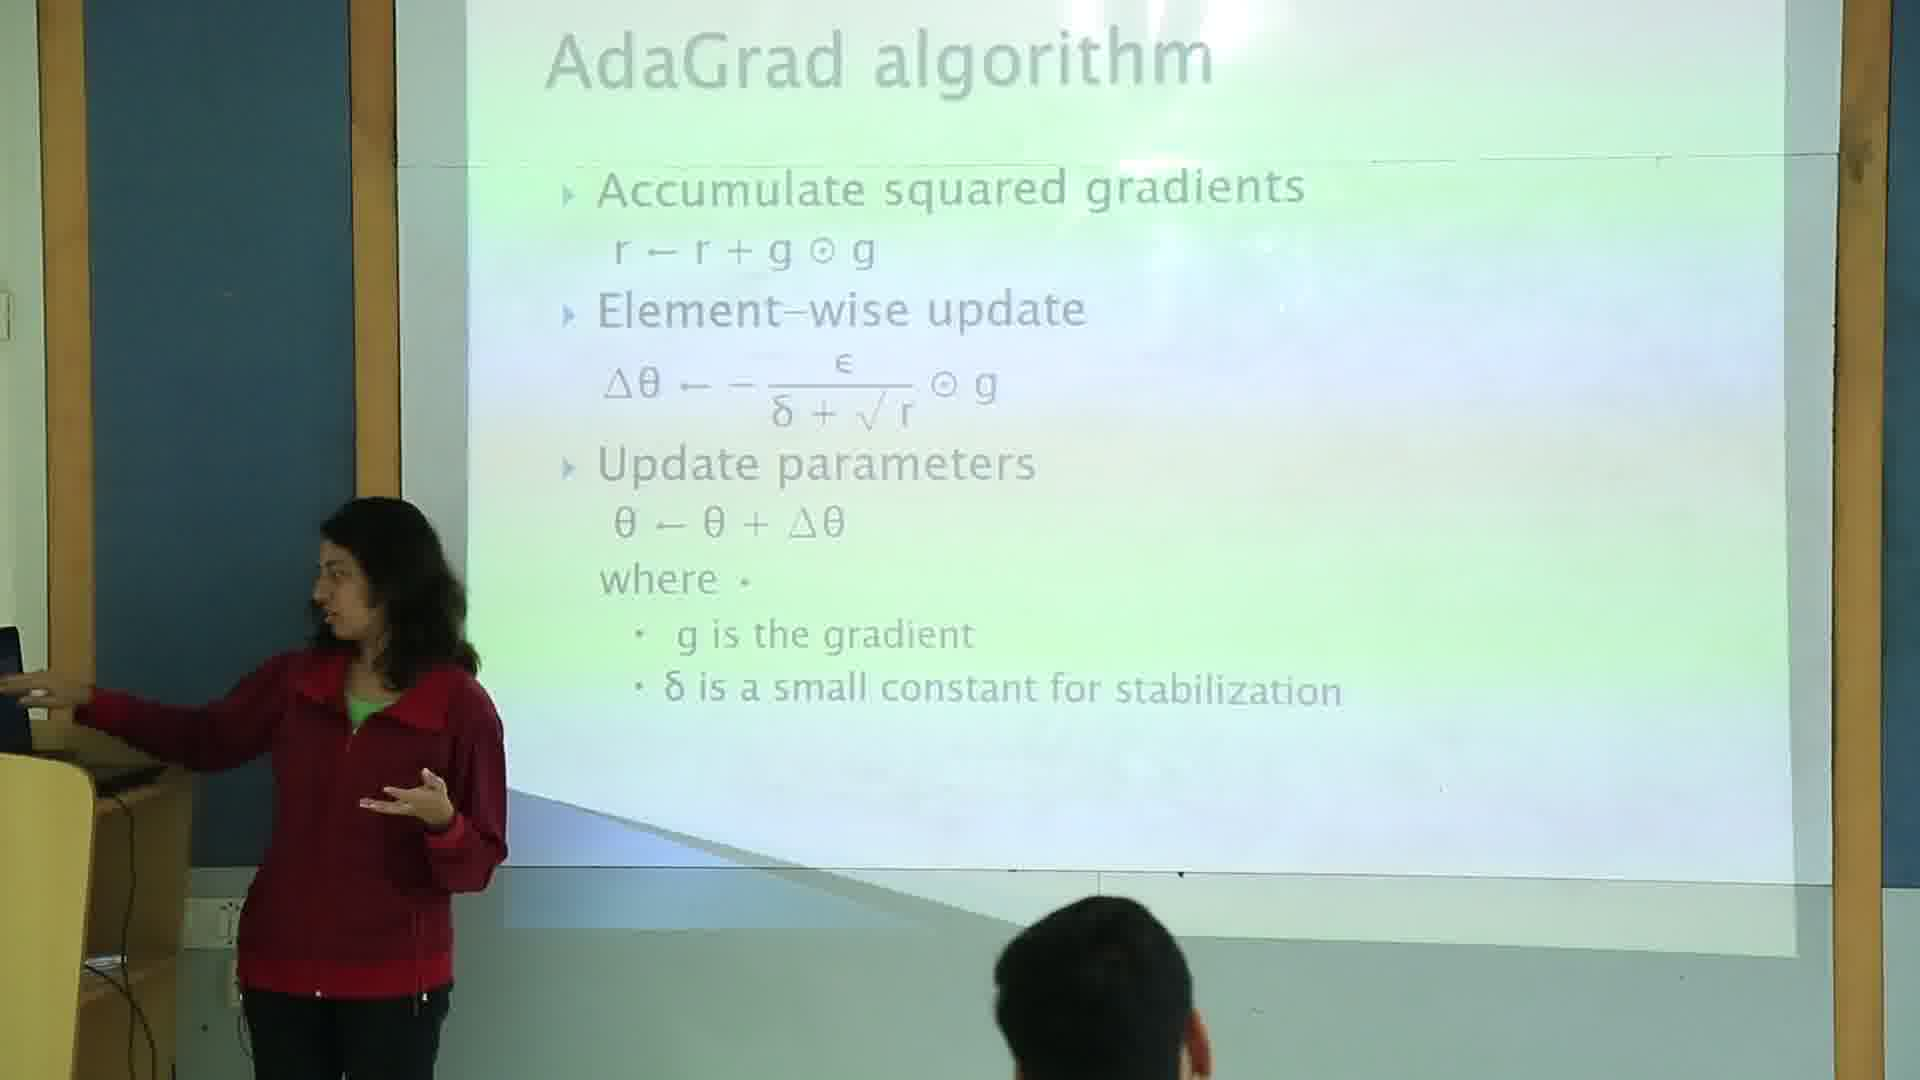eq: (597, 347, 1000, 436), (608, 229, 882, 277), (603, 498, 856, 549)
